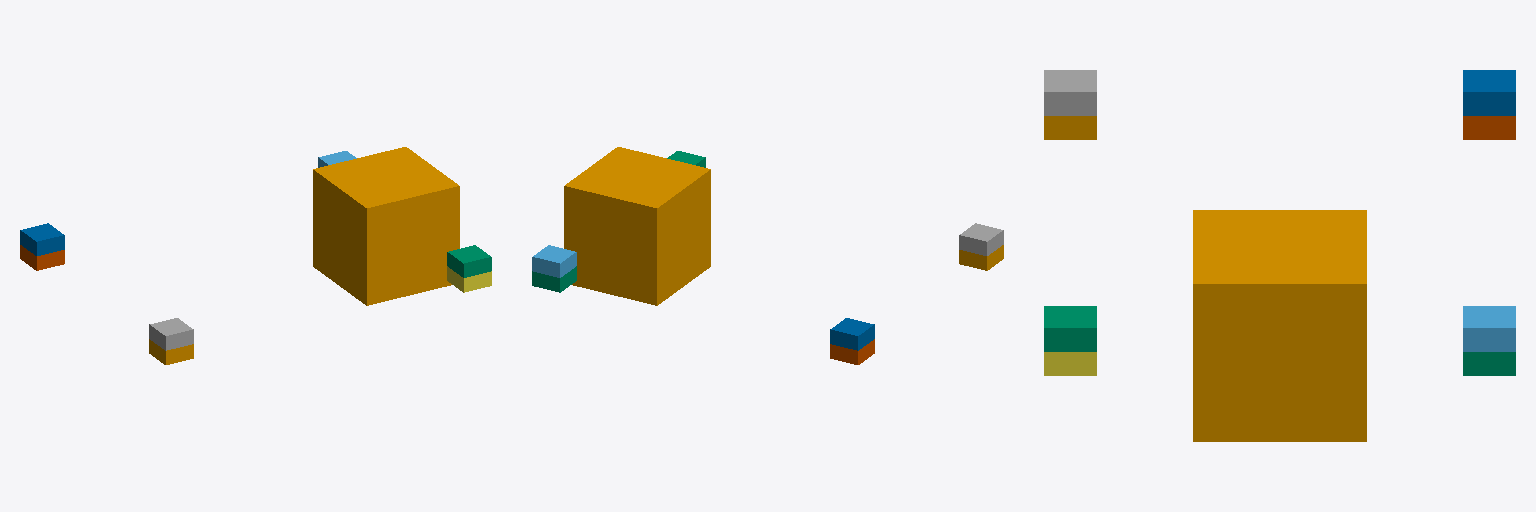
The robot description file, URDF, robot "simple_car":
<?xml version="1.0" ?>
<!-- =================================================================================== -->
<!-- |    This document was autogenerated by xacro from model.urdf.xacro               | -->
<!-- |    EDITING THIS FILE BY HAND IS NOT RECOMMENDED                                 | -->
<!-- =================================================================================== -->
<robot name="simple_car">
  <link name="base_link">
    <inertial>
      <origin rpy="0 0 0" xyz="0 0 0"/>
      <mass value="1580"/>
      <inertia ixx="263.3333333333333" ixy="0" ixz="0" iyy="263.3333333333333" iyz="0" izz="263.3333333333333"/>
    </inertial>
    <visual>
      <origin rpy="0 0 0" xyz="0 0 0"/>
      <geometry>
        <box size="1 1 1"/>
      </geometry>
    </visual>
    <collision>
      <origin rpy="0 0 0" xyz="0 0 0"/>
      <geometry>
        <box size="1 1 1"/>
      </geometry>
    </collision>
  </link>
  <link name="wheel_fl_base">
    <inertial>
      <origin rpy="0 0 0" xyz="0 0 0"/>
      <mass value="1"/>
      <inertia ixx="1" ixy="0" ixz="0" iyy="1" iyz="0" izz="1"/>
    </inertial>
    <visual>
      <origin rpy="0 0 0" xyz="0 0 0.075"/>
      <geometry>
        <box size="0.3 0.3 0.15"/>
      </geometry>
    </visual>
  </link>
  <link name="wheel_fl_steer">
    <inertial>
      <mass value="1"/>
      <inertia ixx="1" ixy="0" ixz="0" iyy="1" iyz="0" izz="1"/>
    </inertial>
    <visual>
      <origin rpy="0 0 0" xyz="0 0 -0.075"/>
      <geometry>
        <box size="0.3 0.3 0.15"/>
      </geometry>
    </visual>
  </link>
  <link name="wheel_fl_tire">
    <inertial>
      <origin rpy="0 0 0" xyz="0 0 0"/>
      <mass value="200"/>
      <inertia ixx="15.417916666666665" ixy="0" ixz="0" iyy="15.417916666666665" iyz="0" izz="25.5025"/>
    </inertial>
    <visual>
      <origin rpy="0 0 0" xyz="0 0 0"/>
      <geometry>
        <!-- 
                    <cylinder radius="${radius}" length="${length}"/>
-->
        <mesh filename="model://simple_car/resources/tire/tire.dae"/>
      </geometry>
    </visual>
    <collision>
      <origin rpy="0 0 0" xyz="0 0 0"/>
      <geometry>
        <cylinder length="0.4" radius="0.505"/>
      </geometry>
    </collision>
  </link>
  <joint name="joint_base_link_to_wheel_fl_base" type="fixed">
    <origin rpy="0 0 0" xyz="0.2 1.2 0"/>
    <parent link="base_link"/>
    <child link="wheel_fl_base"/>
    <axis xyz="0 0 1"/>
    <limit effort="10000000000000000" lower="-1" upper="1" velocity="100"/>
    <safety_controller k_position="1" k_velocity="1" soft_lower_limit="0" soft_upper_limit="0"/>
  </joint>
  <joint name="joint_wheel_fl_base_to_wheel_fl_steer" type="continuous">
    <origin rpy="0 0 0" xyz="0 0 0"/>
    <parent link="wheel_fl_base"/>
    <child link="wheel_fl_steer"/>
    <axis xyz="0 0 1"/>
  </joint>
  <joint name="joint_wheel_fl_steer_to_wheel_fl_tire" type="continuous">
    <origin rpy="-1.5707963267948966 0 0" xyz="0 0 -0.655"/>
    <parent link="wheel_fl_steer"/>
    <child link="wheel_fl_tire"/>
    <axis xyz="0 0 1"/>
  </joint>
  <!--
            <transmission name="${name}_steer_transmission">
                <type>transmission_interface/SimpleTransmission</type>
                <actuator name="$${name}_steer_motor">
                    <mechanicalReduction>1</mechanicalReduction>
                </actuator>
                <joint name="joint_${name}_base_to_${name}_steer">
                    <hardwareInterface>hardware_interface/PositionJointInterface</hardwareInterface>
                </joint>
            </transmission>
        -->
  <gazebo reference="wheel_fl_steer">
    <material>Gazebo/Blue</material>
  </gazebo>
  <!--
        <gazebo reference="${name}_tire">
            <material>Gazebo/Orange</material>
            <mu1>0.9</mu1>
            <mu2>0.8</mu2>
        </gazebo>
        -->
  <gazebo>
    <plugin filename="libwheel.so" name="wheel_fl">
      <steer_joint name="joint_wheel_fl_base_to_wheel_fl_steer"/>
      <drive_joint name="joint_wheel_fl_steer_to_wheel_fl_tire"/>
    </plugin>
  </gazebo>
  <link name="wheel_rl_base">
    <inertial>
      <origin rpy="0 0 0" xyz="0 0 0"/>
      <mass value="1"/>
      <inertia ixx="1" ixy="0" ixz="0" iyy="1" iyz="0" izz="1"/>
    </inertial>
    <visual>
      <origin rpy="0 0 0" xyz="0 0 0.075"/>
      <geometry>
        <box size="0.3 0.3 0.15"/>
      </geometry>
    </visual>
  </link>
  <link name="wheel_rl_steer">
    <inertial>
      <mass value="1"/>
      <inertia ixx="1" ixy="0" ixz="0" iyy="1" iyz="0" izz="1"/>
    </inertial>
    <visual>
      <origin rpy="0 0 0" xyz="0 0 -0.075"/>
      <geometry>
        <box size="0.3 0.3 0.15"/>
      </geometry>
    </visual>
  </link>
  <link name="wheel_rl_tire">
    <inertial>
      <origin rpy="0 0 0" xyz="0 0 0"/>
      <mass value="200"/>
      <inertia ixx="15.417916666666665" ixy="0" ixz="0" iyy="15.417916666666665" iyz="0" izz="25.5025"/>
    </inertial>
    <visual>
      <origin rpy="0 0 0" xyz="0 0 0"/>
      <geometry>
        <!-- 
                    <cylinder radius="${radius}" length="${length}"/>
-->
        <mesh filename="model://simple_car/resources/tire/tire.dae"/>
      </geometry>
    </visual>
    <collision>
      <origin rpy="0 0 0" xyz="0 0 0"/>
      <geometry>
        <cylinder length="0.4" radius="0.505"/>
      </geometry>
    </collision>
  </link>
  <joint name="joint_base_link_to_wheel_rl_base" type="fixed">
    <origin rpy="0 0 0" xyz="-3 1.2 0"/>
    <parent link="base_link"/>
    <child link="wheel_rl_base"/>
    <axis xyz="0 0 1"/>
    <limit effort="10000000000000000" lower="-1" upper="1" velocity="100"/>
    <safety_controller k_position="1" k_velocity="1" soft_lower_limit="0" soft_upper_limit="0"/>
  </joint>
  <joint name="joint_wheel_rl_base_to_wheel_rl_steer" type="continuous">
    <origin rpy="0 0 0" xyz="0 0 0"/>
    <parent link="wheel_rl_base"/>
    <child link="wheel_rl_steer"/>
    <axis xyz="0 0 1"/>
  </joint>
  <joint name="joint_wheel_rl_steer_to_wheel_rl_tire" type="continuous">
    <origin rpy="-1.5707963267948966 0 0" xyz="0 0 -0.655"/>
    <parent link="wheel_rl_steer"/>
    <child link="wheel_rl_tire"/>
    <axis xyz="0 0 1"/>
  </joint>
  <!--
            <transmission name="${name}_steer_transmission">
                <type>transmission_interface/SimpleTransmission</type>
                <actuator name="$${name}_steer_motor">
                    <mechanicalReduction>1</mechanicalReduction>
                </actuator>
                <joint name="joint_${name}_base_to_${name}_steer">
                    <hardwareInterface>hardware_interface/PositionJointInterface</hardwareInterface>
                </joint>
            </transmission>
        -->
  <gazebo reference="wheel_rl_steer">
    <material>Gazebo/Blue</material>
  </gazebo>
  <!--
        <gazebo reference="${name}_tire">
            <material>Gazebo/Orange</material>
            <mu1>0.9</mu1>
            <mu2>0.8</mu2>
        </gazebo>
        -->
  <gazebo>
    <plugin filename="libwheel.so" name="wheel_rl">
      <steer_joint name="joint_wheel_rl_base_to_wheel_rl_steer"/>
      <drive_joint name="joint_wheel_rl_steer_to_wheel_rl_tire"/>
    </plugin>
  </gazebo>
  <link name="wheel_rr_base">
    <inertial>
      <origin rpy="0 0 0" xyz="0 0 0"/>
      <mass value="1"/>
      <inertia ixx="1" ixy="0" ixz="0" iyy="1" iyz="0" izz="1"/>
    </inertial>
    <visual>
      <origin rpy="0 0 0" xyz="0 0 0.075"/>
      <geometry>
        <box size="0.3 0.3 0.15"/>
      </geometry>
    </visual>
  </link>
  <link name="wheel_rr_steer">
    <inertial>
      <mass value="1"/>
      <inertia ixx="1" ixy="0" ixz="0" iyy="1" iyz="0" izz="1"/>
    </inertial>
    <visual>
      <origin rpy="0 0 0" xyz="0 0 -0.075"/>
      <geometry>
        <box size="0.3 0.3 0.15"/>
      </geometry>
    </visual>
  </link>
  <link name="wheel_rr_tire">
    <inertial>
      <origin rpy="0 0 0" xyz="0 0 0"/>
      <mass value="200"/>
      <inertia ixx="15.417916666666665" ixy="0" ixz="0" iyy="15.417916666666665" iyz="0" izz="25.5025"/>
    </inertial>
    <visual>
      <origin rpy="0 0 0" xyz="0 0 0"/>
      <geometry>
        <!-- 
                    <cylinder radius="${radius}" length="${length}"/>
-->
        <mesh filename="model://simple_car/resources/tire/tire.dae"/>
      </geometry>
    </visual>
    <collision>
      <origin rpy="0 0 0" xyz="0 0 0"/>
      <geometry>
        <cylinder length="0.4" radius="0.505"/>
      </geometry>
    </collision>
  </link>
  <joint name="joint_base_link_to_wheel_rr_base" type="fixed">
    <origin rpy="0 0 0" xyz="-3 -1.2 0"/>
    <parent link="base_link"/>
    <child link="wheel_rr_base"/>
    <axis xyz="0 0 1"/>
    <limit effort="10000000000000000" lower="-1" upper="1" velocity="100"/>
    <safety_controller k_position="1" k_velocity="1" soft_lower_limit="0" soft_upper_limit="0"/>
  </joint>
  <joint name="joint_wheel_rr_base_to_wheel_rr_steer" type="continuous">
    <origin rpy="0 0 0" xyz="0 0 0"/>
    <parent link="wheel_rr_base"/>
    <child link="wheel_rr_steer"/>
    <axis xyz="0 0 1"/>
  </joint>
  <joint name="joint_wheel_rr_steer_to_wheel_rr_tire" type="continuous">
    <origin rpy="-1.5707963267948966 0 0" xyz="0 0 -0.655"/>
    <parent link="wheel_rr_steer"/>
    <child link="wheel_rr_tire"/>
    <axis xyz="0 0 1"/>
  </joint>
  <!--
            <transmission name="${name}_steer_transmission">
                <type>transmission_interface/SimpleTransmission</type>
                <actuator name="$${name}_steer_motor">
                    <mechanicalReduction>1</mechanicalReduction>
                </actuator>
                <joint name="joint_${name}_base_to_${name}_steer">
                    <hardwareInterface>hardware_interface/PositionJointInterface</hardwareInterface>
                </joint>
            </transmission>
        -->
  <gazebo reference="wheel_rr_steer">
    <material>Gazebo/Blue</material>
  </gazebo>
  <!--
        <gazebo reference="${name}_tire">
            <material>Gazebo/Orange</material>
            <mu1>0.9</mu1>
            <mu2>0.8</mu2>
        </gazebo>
        -->
  <gazebo>
    <plugin filename="libwheel.so" name="wheel_rr">
      <steer_joint name="joint_wheel_rr_base_to_wheel_rr_steer"/>
      <drive_joint name="joint_wheel_rr_steer_to_wheel_rr_tire"/>
    </plugin>
  </gazebo>
  <link name="wheel_fr_base">
    <inertial>
      <origin rpy="0 0 0" xyz="0 0 0"/>
      <mass value="1"/>
      <inertia ixx="1" ixy="0" ixz="0" iyy="1" iyz="0" izz="1"/>
    </inertial>
    <visual>
      <origin rpy="0 0 0" xyz="0 0 0.075"/>
      <geometry>
        <box size="0.3 0.3 0.15"/>
      </geometry>
    </visual>
  </link>
  <link name="wheel_fr_steer">
    <inertial>
      <mass value="1"/>
      <inertia ixx="1" ixy="0" ixz="0" iyy="1" iyz="0" izz="1"/>
    </inertial>
    <visual>
      <origin rpy="0 0 0" xyz="0 0 -0.075"/>
      <geometry>
        <box size="0.3 0.3 0.15"/>
      </geometry>
    </visual>
  </link>
  <link name="wheel_fr_tire">
    <inertial>
      <origin rpy="0 0 0" xyz="0 0 0"/>
      <mass value="200"/>
      <inertia ixx="15.417916666666665" ixy="0" ixz="0" iyy="15.417916666666665" iyz="0" izz="25.5025"/>
    </inertial>
    <visual>
      <origin rpy="0 0 0" xyz="0 0 0"/>
      <geometry>
        <!-- 
                    <cylinder radius="${radius}" length="${length}"/>
-->
        <mesh filename="model://simple_car/resources/tire/tire.dae"/>
      </geometry>
    </visual>
    <collision>
      <origin rpy="0 0 0" xyz="0 0 0"/>
      <geometry>
        <cylinder length="0.4" radius="0.505"/>
      </geometry>
    </collision>
  </link>
  <joint name="joint_base_link_to_wheel_fr_base" type="fixed">
    <origin rpy="0 0 0" xyz="0.2 -1.2 0"/>
    <parent link="base_link"/>
    <child link="wheel_fr_base"/>
    <axis xyz="0 0 1"/>
    <limit effort="10000000000000000" lower="-1" upper="1" velocity="100"/>
    <safety_controller k_position="1" k_velocity="1" soft_lower_limit="0" soft_upper_limit="0"/>
  </joint>
  <joint name="joint_wheel_fr_base_to_wheel_fr_steer" type="continuous">
    <origin rpy="0 0 0" xyz="0 0 0"/>
    <parent link="wheel_fr_base"/>
    <child link="wheel_fr_steer"/>
    <axis xyz="0 0 1"/>
  </joint>
  <joint name="joint_wheel_fr_steer_to_wheel_fr_tire" type="continuous">
    <origin rpy="-1.5707963267948966 0 0" xyz="0 0 -0.655"/>
    <parent link="wheel_fr_steer"/>
    <child link="wheel_fr_tire"/>
    <axis xyz="0 0 1"/>
  </joint>
  <!--
            <transmission name="${name}_steer_transmission">
                <type>transmission_interface/SimpleTransmission</type>
                <actuator name="$${name}_steer_motor">
                    <mechanicalReduction>1</mechanicalReduction>
                </actuator>
                <joint name="joint_${name}_base_to_${name}_steer">
                    <hardwareInterface>hardware_interface/PositionJointInterface</hardwareInterface>
                </joint>
            </transmission>
        -->
  <gazebo reference="wheel_fr_steer">
    <material>Gazebo/Blue</material>
  </gazebo>
  <!--
        <gazebo reference="${name}_tire">
            <material>Gazebo/Orange</material>
            <mu1>0.9</mu1>
            <mu2>0.8</mu2>
        </gazebo>
        -->
  <gazebo>
    <plugin filename="libwheel.so" name="wheel_fr">
      <steer_joint name="joint_wheel_fr_base_to_wheel_fr_steer"/>
      <drive_joint name="joint_wheel_fr_steer_to_wheel_fr_tire"/>
    </plugin>
  </gazebo>
  <link name="tool_link">
    <inertial>
      <origin rpy="0 0 0" xyz="0 0 0"/>
      <mass value="400"/>
      <inertia ixx="722.9999999999999" ixy="0" ixz="0" iyy="56.33333333333332" iyz="0" izz="683.3333333333333"/>
    </inertial>
    <visual>
      <origin rpy="0 0 0" xyz="0 0 0"/>
      <geometry>
        <mesh filename="model://simple_car/resources/tire/tire.dae"/>
      </geometry>
    </visual>
    <collision>
      <origin rpy="0 0 0" xyz="0 0 0"/>
      <geometry>
        <box size="0.5 4.5 1.2"/>
      </geometry>
    </collision>
  </link>
  <joint name="joint_tool_to_base_base" type="fixed">
    <origin rpy="0 0 0" xyz="20 0 0"/>
    <parent link="base_link"/>
    <child link="tool_link"/>
    <axis xyz="0 0 1"/>
  </joint>
  <gazebo>
    <plugin filename="libvehicle_body.so" name="vehicle">
        </plugin>
  </gazebo>
</robot>

--- What the picture shows (computed from the rendered views, not written in the file) ---
Views: 3 orthographic renders of the robot side by side, from view 1: azimuth 30°, elevation 25°; view 2: azimuth 150°, elevation 25°; view 3: azimuth 270°, elevation 25°.
Robot: simple_car — 14 links, 13 joints (8 continuous, 5 fixed); root link base_link; default pose: every joint at zero.
Visible links, largest first — view 1: base_link, wheel_rl_base, wheel_rr_base, wheel_fr_base, wheel_fr_steer, wheel_rl_steer, wheel_rr_steer; view 2: base_link, wheel_rr_base, wheel_rl_base, wheel_fl_base, wheel_fl_steer, wheel_rl_steer, wheel_rr_steer; view 3: base_link, wheel_fl_base, wheel_rl_base, wheel_rr_base, wheel_fr_base, wheel_fl_steer, wheel_rl_steer, wheel_rr_steer, wheel_fr_steer.
Link boxes in pixels (<box>): base_link: <box>313,147,459,305</box>; wheel_rl_base: <box>20,223,64,255</box>; wheel_rr_base: <box>149,318,193,350</box>; wheel_fr_base: <box>447,245,491,277</box>; wheel_fr_steer: <box>447,266,491,292</box>; wheel_rl_steer: <box>20,245,64,270</box>; wheel_rr_steer: <box>149,339,193,364</box>; base_link: <box>564,147,710,305</box>; wheel_rr_base: <box>959,223,1003,255</box>; wheel_rl_base: <box>830,318,874,350</box>; wheel_fl_base: <box>532,245,576,277</box>; wheel_fl_steer: <box>532,266,576,292</box>; wheel_rl_steer: <box>830,339,874,364</box>; wheel_rr_steer: <box>959,245,1003,270</box>; base_link: <box>1193,210,1366,441</box>; wheel_fl_base: <box>1463,306,1515,351</box>; wheel_rl_base: <box>1463,70,1515,115</box>; wheel_rr_base: <box>1044,70,1096,115</box>; wheel_fr_base: <box>1044,306,1096,351</box>; wheel_fl_steer: <box>1463,352,1515,375</box>; wheel_rl_steer: <box>1463,116,1515,139</box>; wheel_rr_steer: <box>1044,116,1096,139</box>; wheel_fr_steer: <box>1044,352,1096,375</box>.
Bounding box of the posed robot: 3.65 × 2.7 × 1 m (x, y, z).
Meshes: 1 distinct files referenced, 0 mesh visuals loaded (none loaded); not drawn: 5 (reference not matched to a file when rendering).
